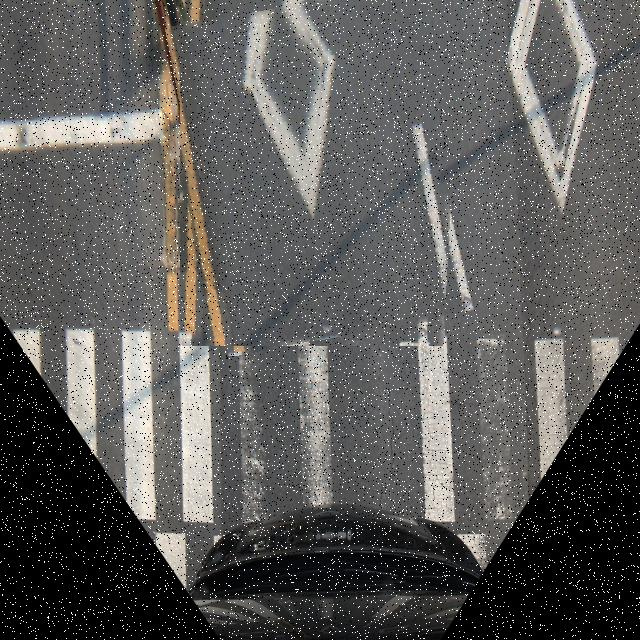diamond: (180, 0, 461, 346)
